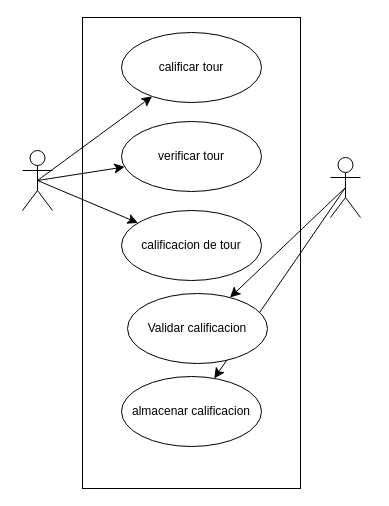
Some shapes in this 389 by 506 pixel diagram are drawn without their labels. Each missing label, with the centre of its shape:
"Sistemma" goes at pixel 345 187.
"Usuario" goes at pixel 37 180.
